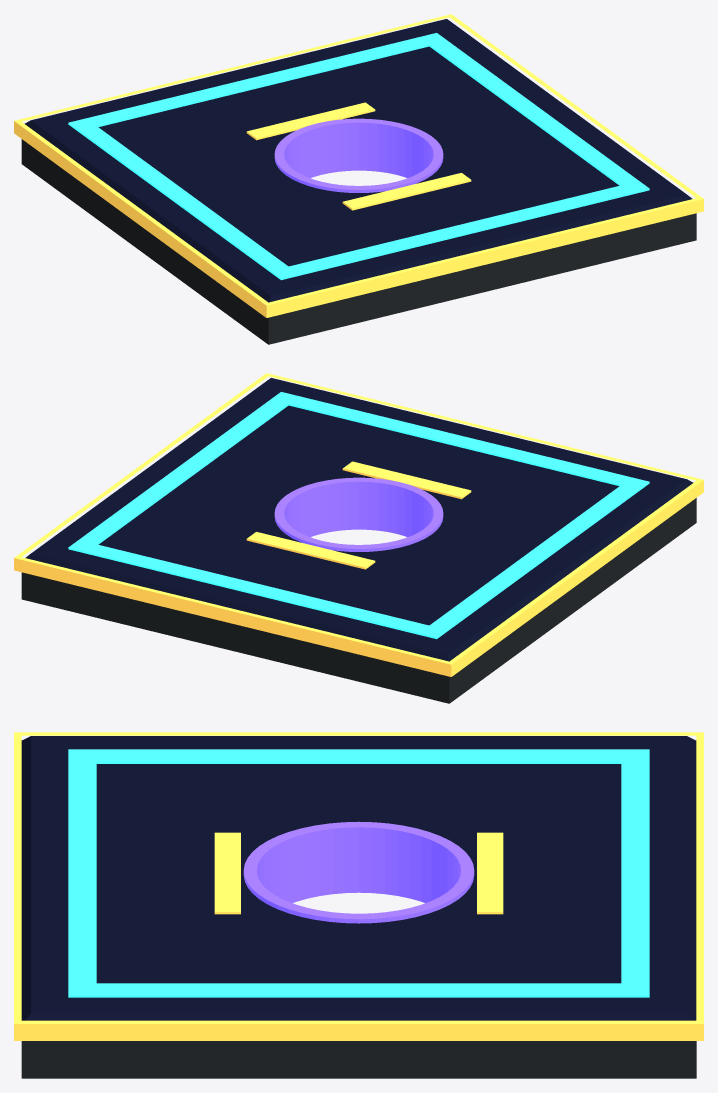
Rendered from skyreach_elevator_hole.glb.
3 views of the same model, one above another, from view 1: azimuth 30°, elevation 25°; view 2: azimuth 150°, elevation 25°; view 3: azimuth 270°, elevation 25° (orthographic). The views are drawn at different scales.
Parts seen in each view (by area): view 1: skyreach_elevator_hole; view 2: skyreach_elevator_hole; view 3: skyreach_elevator_hole.
Part boxes in pixels (x1,y1,x2,y2): skyreach_elevator_hole: (14,14,703,344); skyreach_elevator_hole: (14,373,703,703); skyreach_elevator_hole: (14,732,703,1078).
Size of the model in its own units: 3.68 by 0.385 by 3.68.
